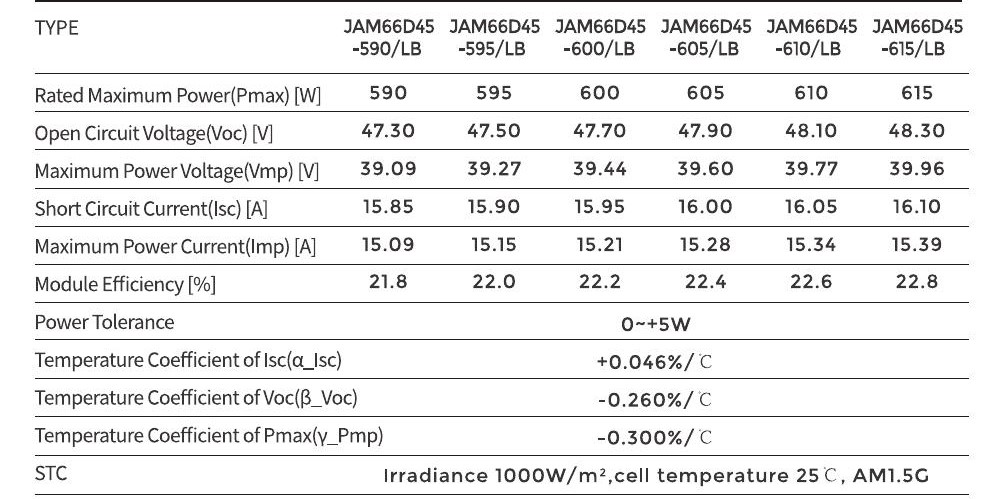table: (1, 2, 985, 499)
table column: (24, 6, 341, 497), (445, 4, 549, 497), (870, 4, 974, 496), (764, 2, 866, 496), (554, 5, 654, 495), (658, 4, 757, 496), (342, 4, 440, 495)
table row: (10, 8, 980, 71), (7, 342, 984, 376), (9, 77, 982, 111), (8, 381, 984, 414), (8, 419, 984, 452), (6, 458, 982, 491), (8, 153, 983, 186), (8, 230, 984, 262), (8, 267, 983, 299), (7, 193, 984, 224), (8, 116, 984, 147), (8, 306, 984, 337)
table spanning cell: (341, 342, 980, 375), (342, 419, 980, 452), (342, 305, 979, 338), (343, 382, 980, 414)
